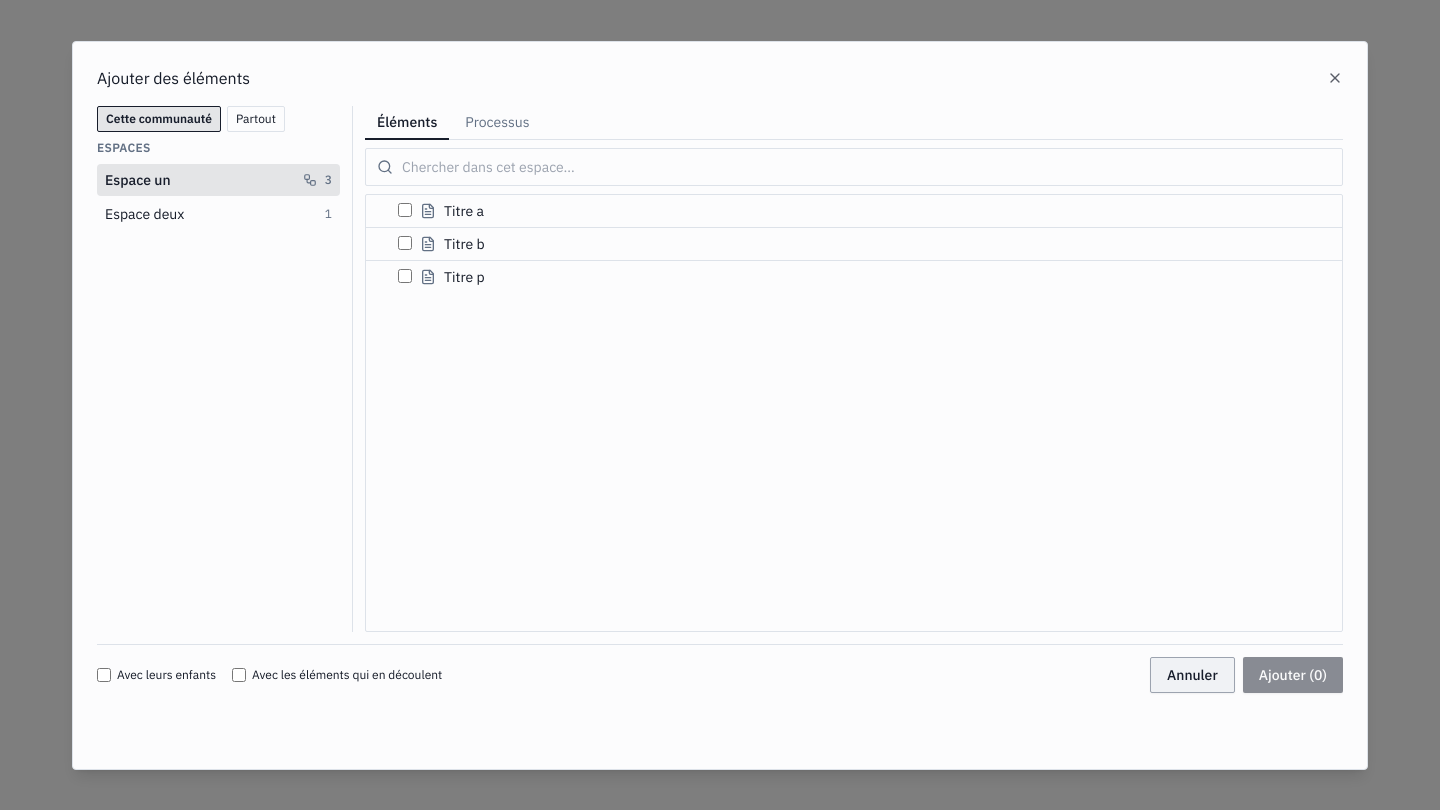
ArticleBrowser › changer d’espace garde la sélection ; liste tronquée signalée
Check: the text "Titre a" is shown, box [444, 202, 484, 220]
Click the checkbox labelled "Titre a" at x=405, y=210, box [398, 202, 412, 216]
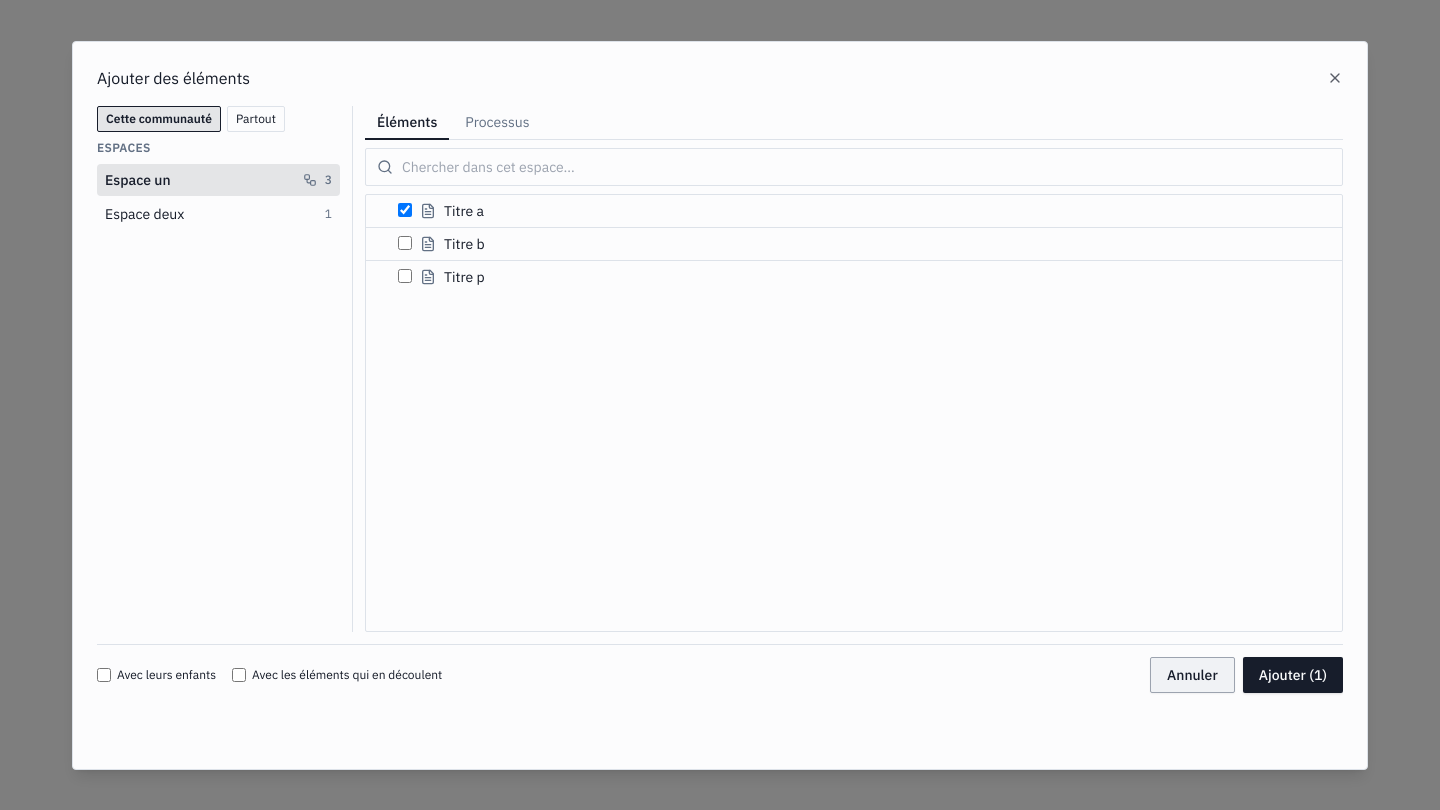
Click the button "Espace deux 1" at x=218, y=214, box [97, 198, 340, 230]
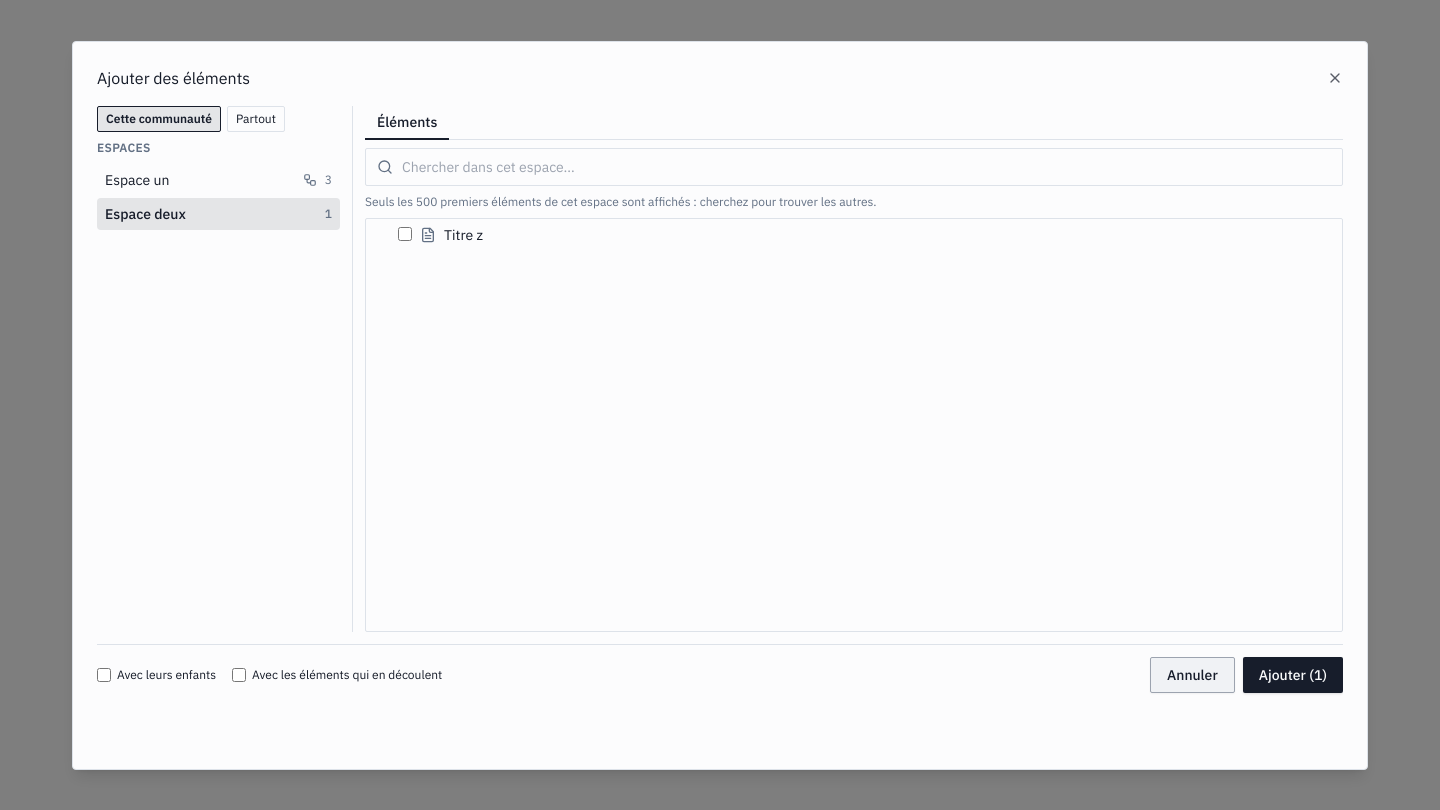
Check: the button "Ajouter (1)" is shown, box [1243, 657, 1343, 693]
Check: the text "Titre z" is shown, box [444, 226, 483, 244]
Check: the text "Seuls les 500 premiers éléments de cet espace sont affichés : cherchez pour trouver les autres." is shown, box [365, 194, 877, 208]
